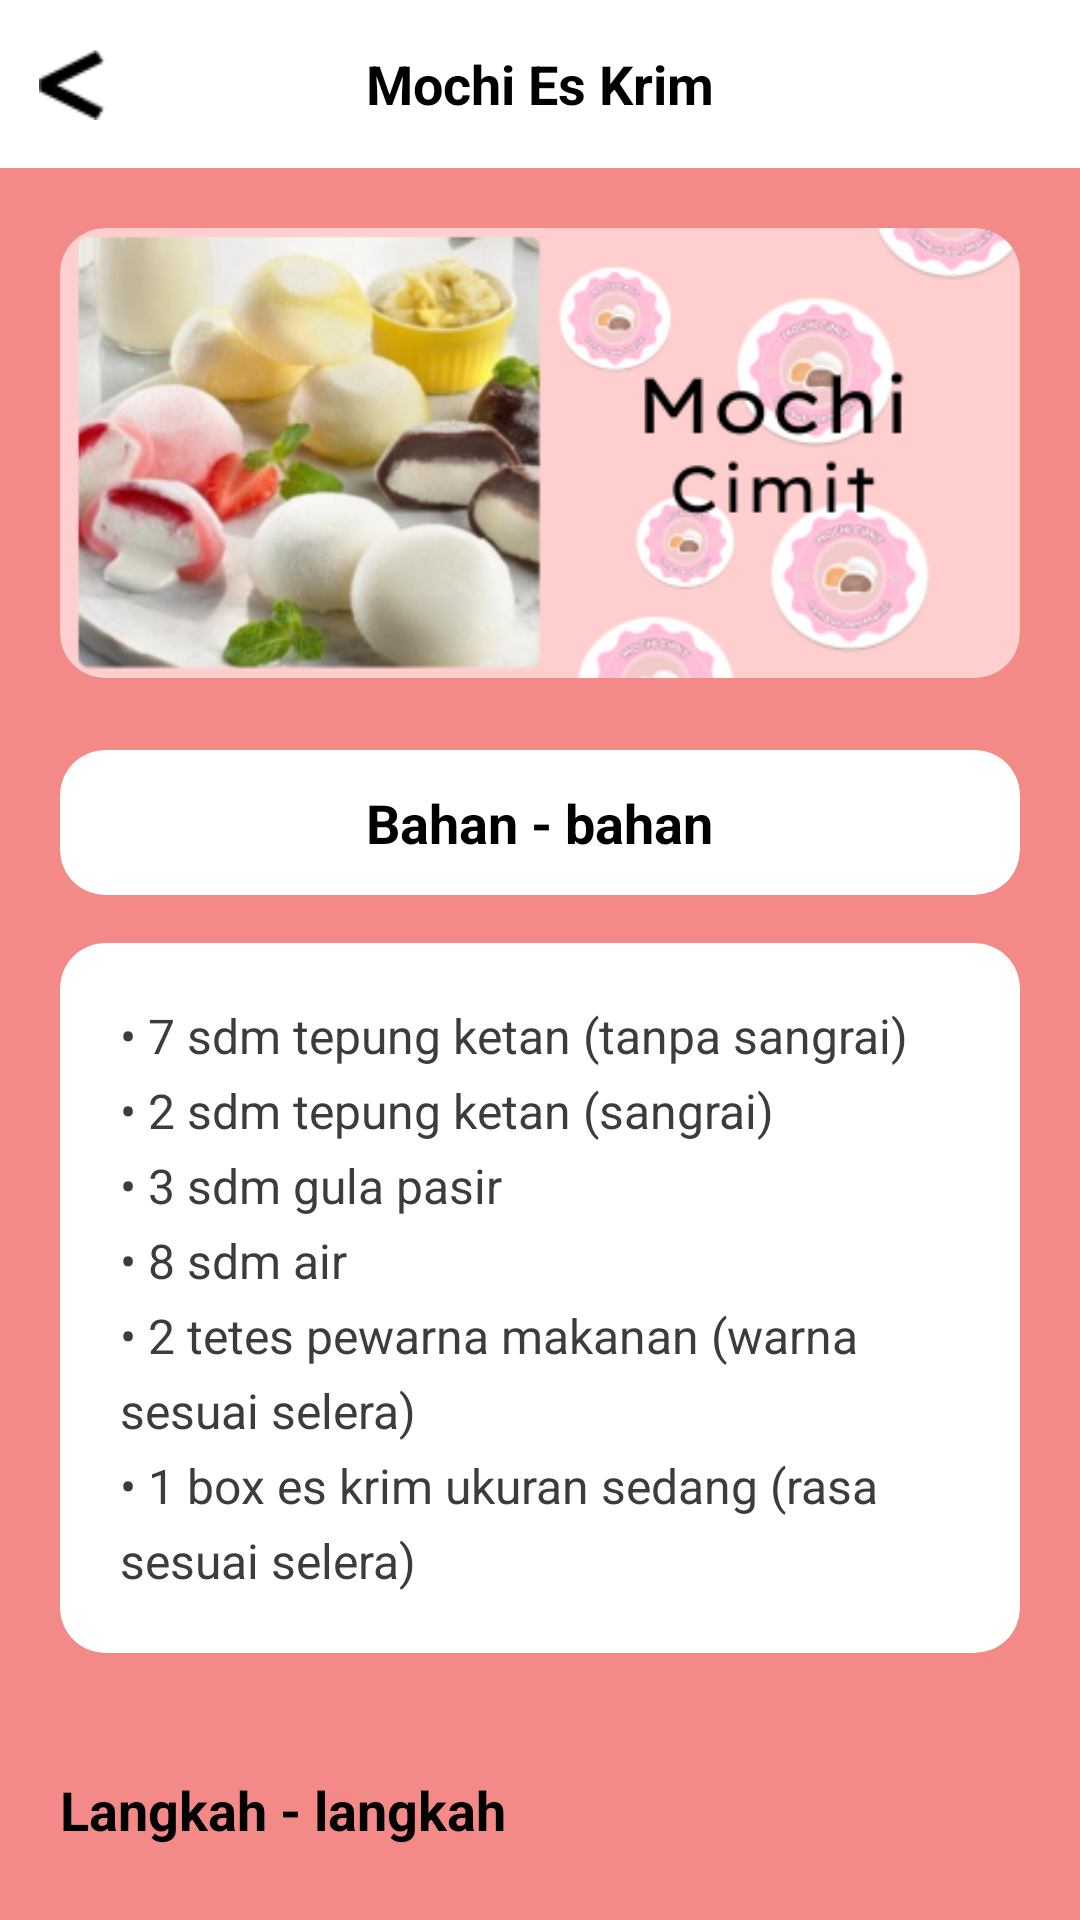

Screen size 1080px x 1920px. Icon name, then its box in pixels as (x1=x1, y1=y1, x2=x2, y2=y2):
Kembali: (x1=39, y1=50, x2=104, y2=120)
